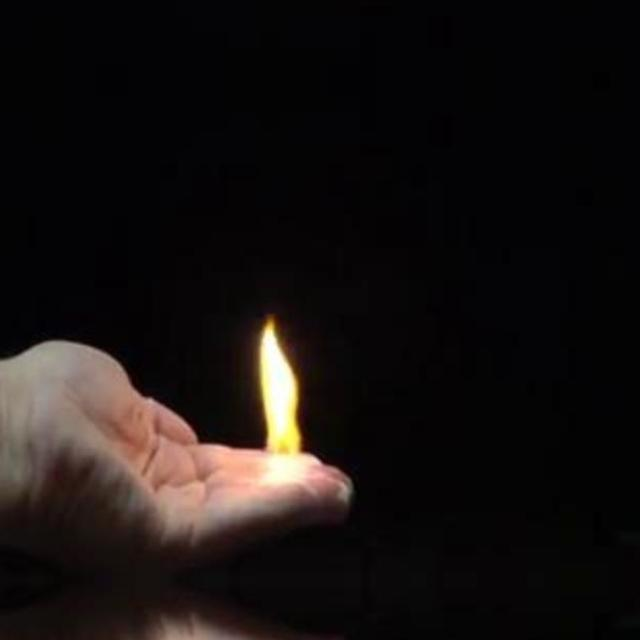smoke: (256, 312, 314, 492)
